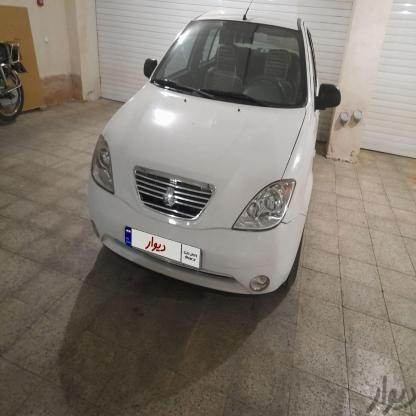Car: (82, 5, 332, 318)
